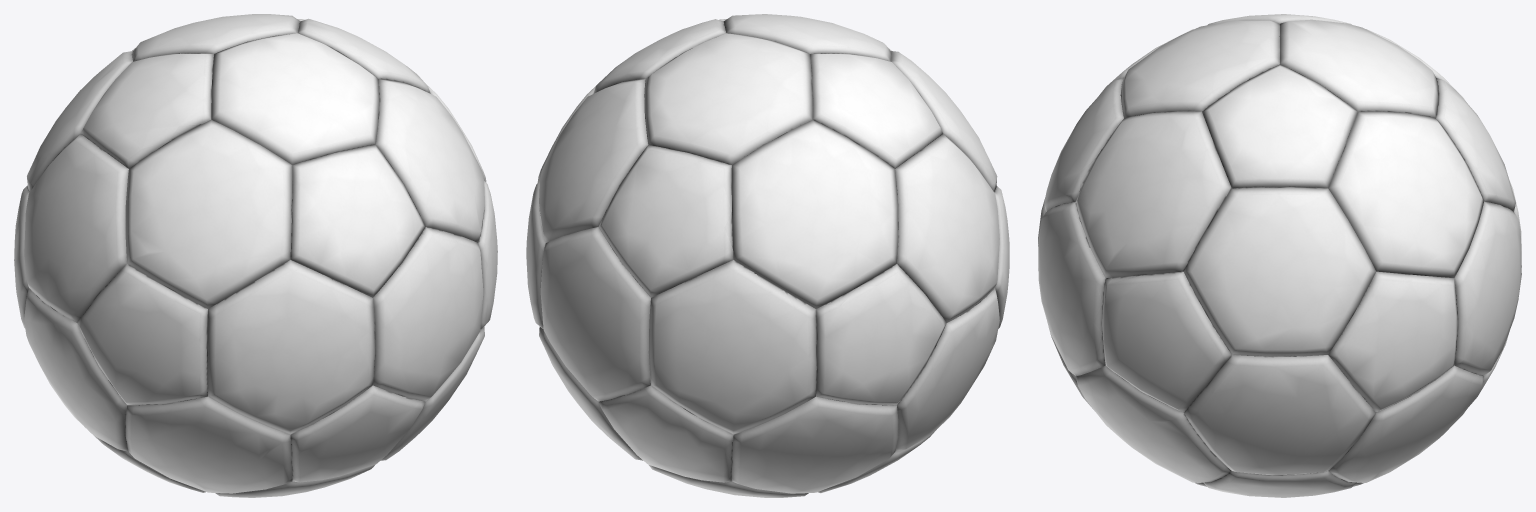
Rendered from Ball.obj.
3 renders of one model, left to right at view 1: azimuth 30°, elevation 25°; view 2: azimuth 150°, elevation 25°; view 3: azimuth 270°, elevation 25°, orthographic.
Parts seen in each view (by area): view 1: Soccer-Ball.001_Solid.004; view 2: Soccer-Ball.001_Solid.004; view 3: Soccer-Ball.001_Solid.004.
Part boxes in pixels (left/top/right/bottom): Soccer-Ball.001_Solid.004: left=14, top=14, right=497, bottom=497; Soccer-Ball.001_Solid.004: left=526, top=14, right=1009, bottom=497; Soccer-Ball.001_Solid.004: left=1038, top=14, right=1521, bottom=497.
Size of the model in its own units: 7.75 by 7.75 by 7.73.
